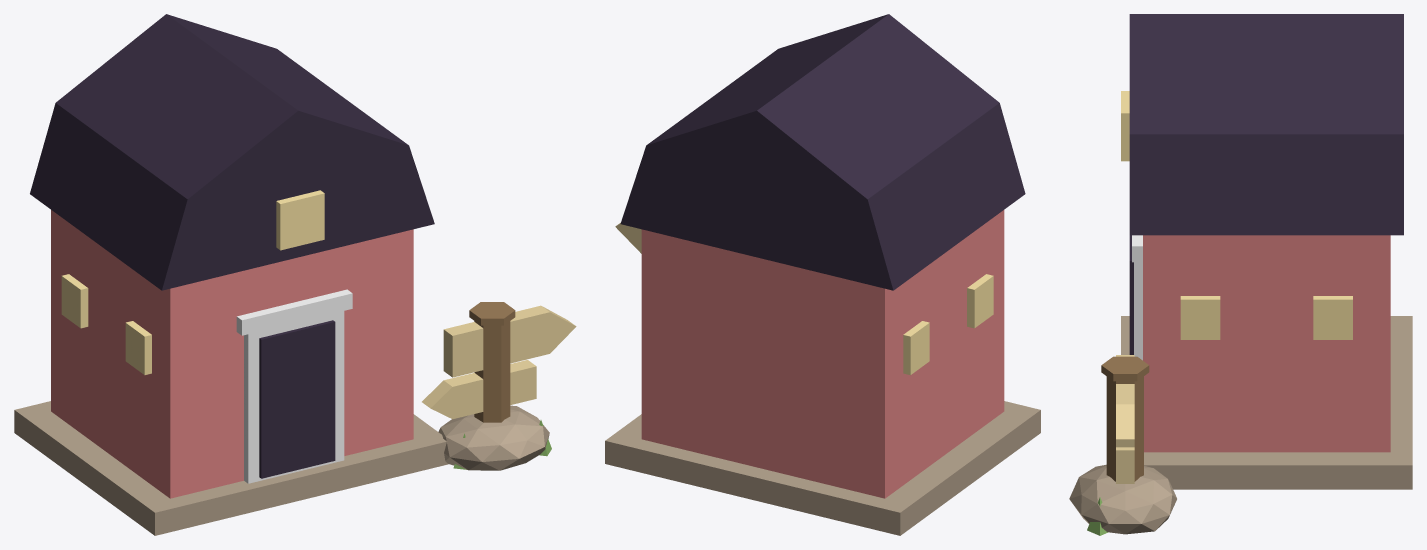
Rendered from meadow-landmark-s2b.glb.
The picture shows the model from 3 angles, left to right: view 1: azimuth 30°, elevation 25°; view 2: azimuth 150°, elevation 25°; view 3: azimuth 270°, elevation 25°; orthographic projection. The views are drawn at different scales.
Parts seen in each view (by area): view 1: meadow-landmark-s2b; view 2: meadow-landmark-s2b; view 3: meadow-landmark-s2b.
Part boxes in pixels (x1,y1,x2,y2): meadow-landmark-s2b: (14,14,576,535); meadow-landmark-s2b: (605,14,1040,535); meadow-landmark-s2b: (1069,14,1412,535).
Size of the model in its own units: 1.14 by 1 by 0.7768.
